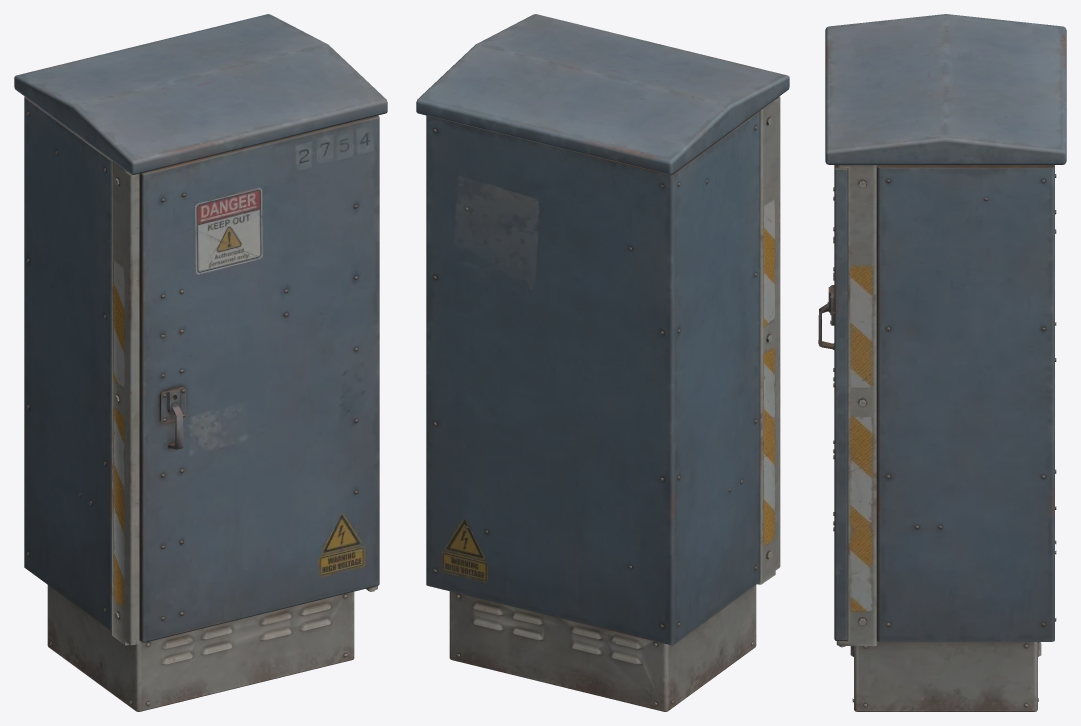
Rendered from utility_box_01.glb.
3 views of the same model, side by side, from view 1: azimuth 30°, elevation 25°; view 2: azimuth 150°, elevation 25°; view 3: azimuth 270°, elevation 25° (orthographic).
Visible parts, largest first — view 1: utility_box_01_box; view 2: utility_box_01_box; view 3: utility_box_01_box.
Part boxes in pixels (x1,y1,x2,y2): utility_box_01_box: [14, 14, 387, 711]; utility_box_01_box: [416, 14, 789, 711]; utility_box_01_box: [818, 14, 1066, 711].
Bounding box in the file's own units: 0.52 × 1.12 × 0.4319.
1 material, 1 textured.
